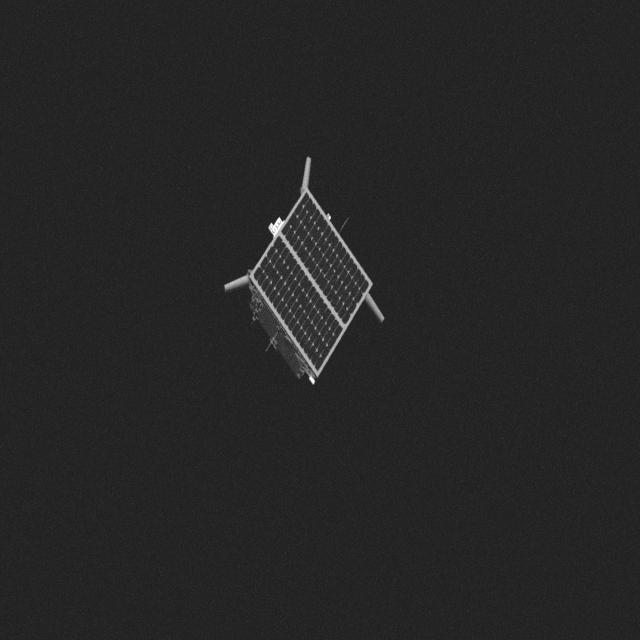satellite: (218, 154, 406, 380)
